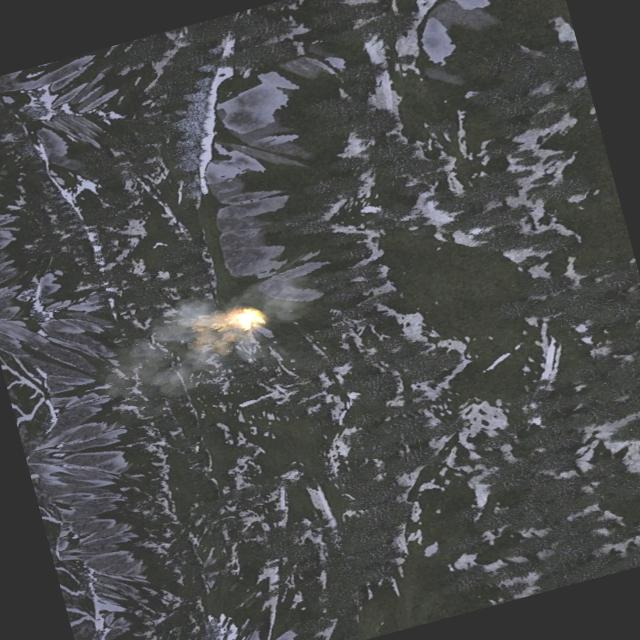fire: (228, 302, 265, 332)
smoke: (89, 286, 256, 410)
